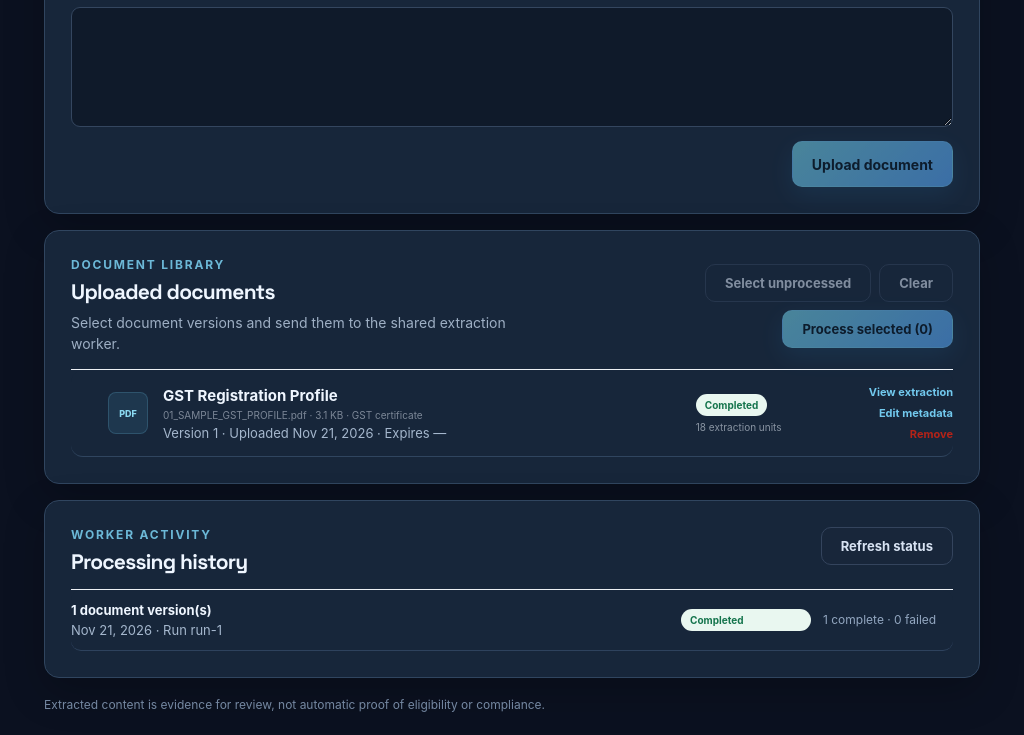
Test: Company document repository › removes a company document from the active library after confirmation while retaining its history
(page scrolled)
Expected: the text "GST Registration Profile" is shown, [163, 386, 338, 404]
Click the button with aria-label "Remove GST Registration Profile".
click(931, 434)  # box [910, 427, 953, 441]
(page scrolled)
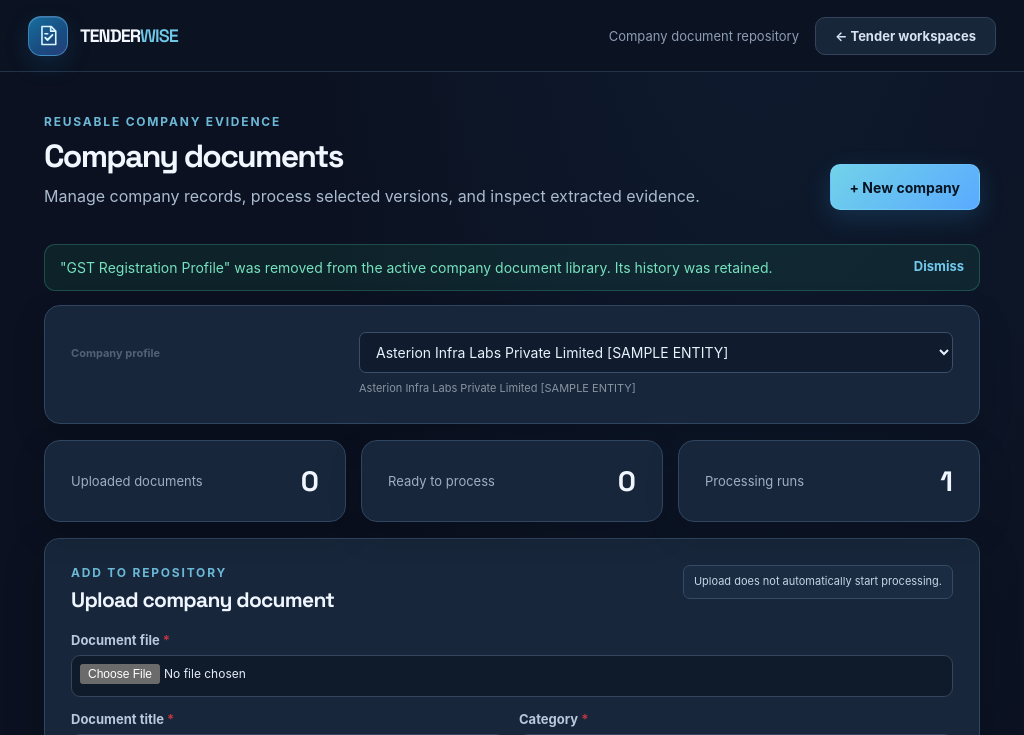
Expected: the text "was removed from the active company document library" is shown, [60, 259, 772, 276]
